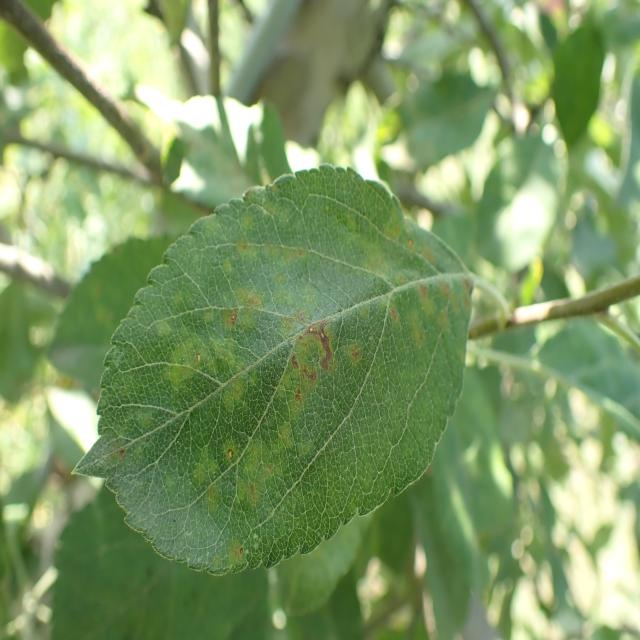scab: (158, 208, 478, 575)
